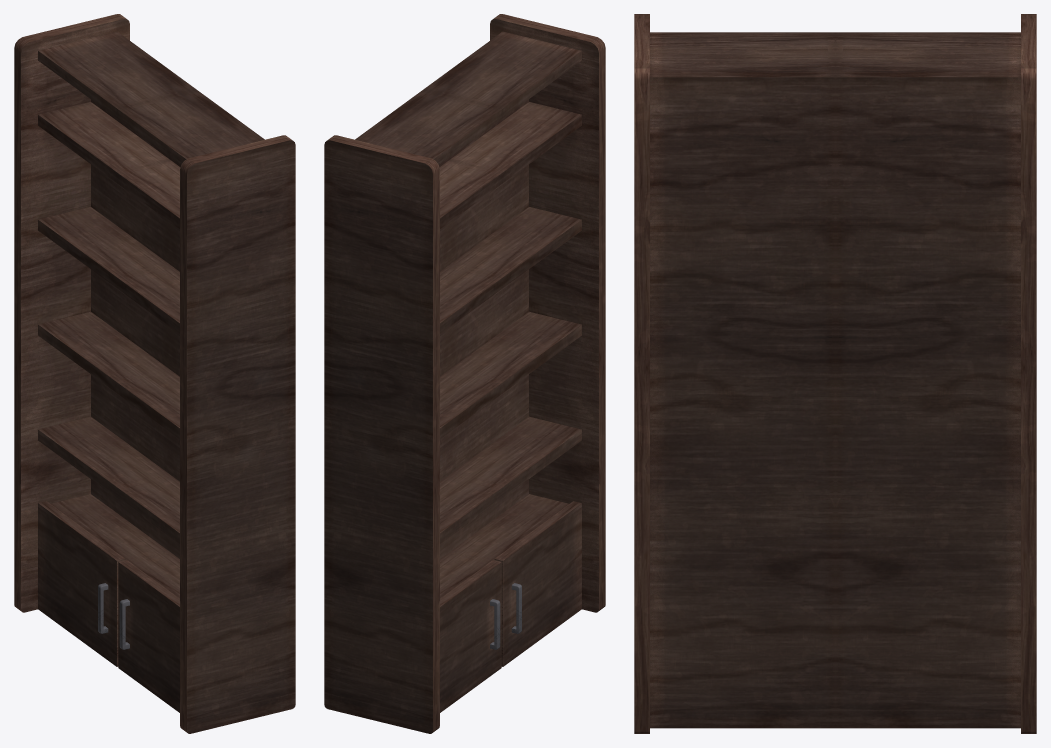
File: SM_Bookshelf.fbx
3 renders of one model, left to right at view 1: azimuth 30°, elevation 25°; view 2: azimuth 150°, elevation 25°; view 3: azimuth 270°, elevation 25°, orthographic. The views are drawn at different scales.
Visible parts, largest first — view 1: SM_Bookshelf_LOD0; view 2: SM_Bookshelf_LOD0; view 3: SM_Bookshelf_LOD0.
Part boxes in pixels (x1,y1,x2,y2): SM_Bookshelf_LOD0: [14, 14, 295, 733]; SM_Bookshelf_LOD0: [324, 14, 605, 733]; SM_Bookshelf_LOD0: [634, 14, 1036, 733].
Size of the model in its own units: 52.99 by 146 by 265.
1 material, 1 textured.
